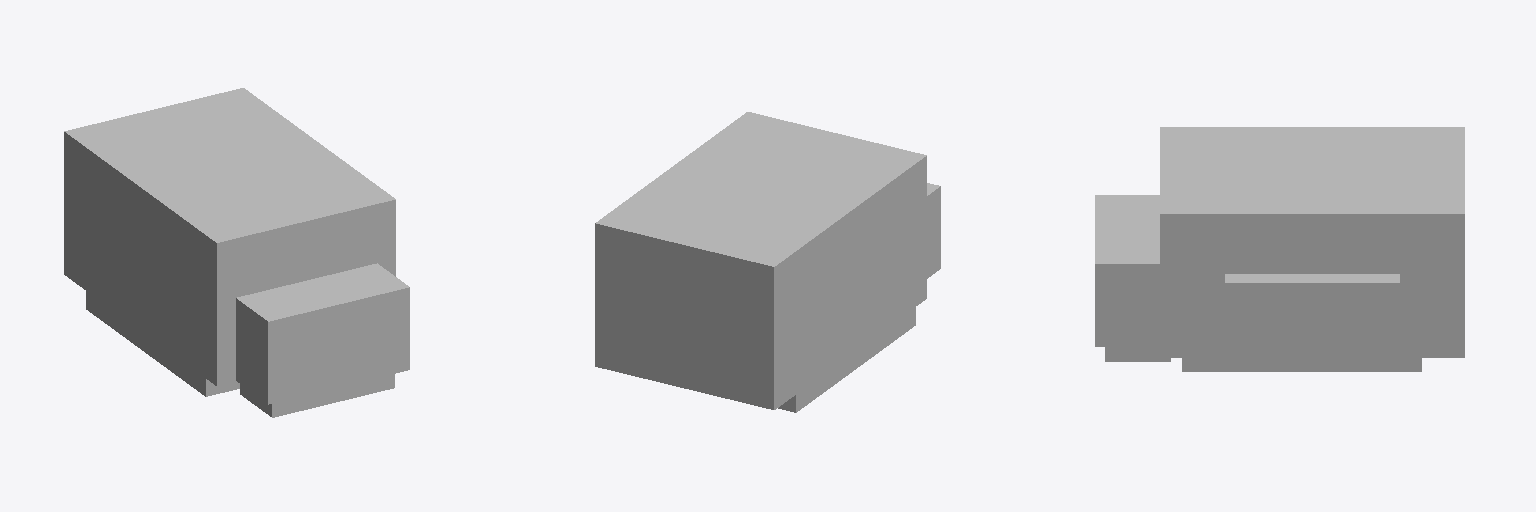
File: envirosuit_boot_left_WIP.obj
3 views of the same model, side by side, from view 1: azimuth 30°, elevation 25°; view 2: azimuth 150°, elevation 25°; view 3: azimuth 270°, elevation 25° (orthographic).
Parts seen in each view (by area): view 1: Left_Boot_Cube.005; view 2: Left_Boot_Cube.005; view 3: Left_Boot_Cube.005.
Part boxes in pixels (x1,y1,x2,y2): Left_Boot_Cube.005: (64,88,409,417); Left_Boot_Cube.005: (595,112,940,412); Left_Boot_Cube.005: (1095,127,1464,371).
Bounding box in the file's own units: 0.6562 × 0.5117 × 1.06.